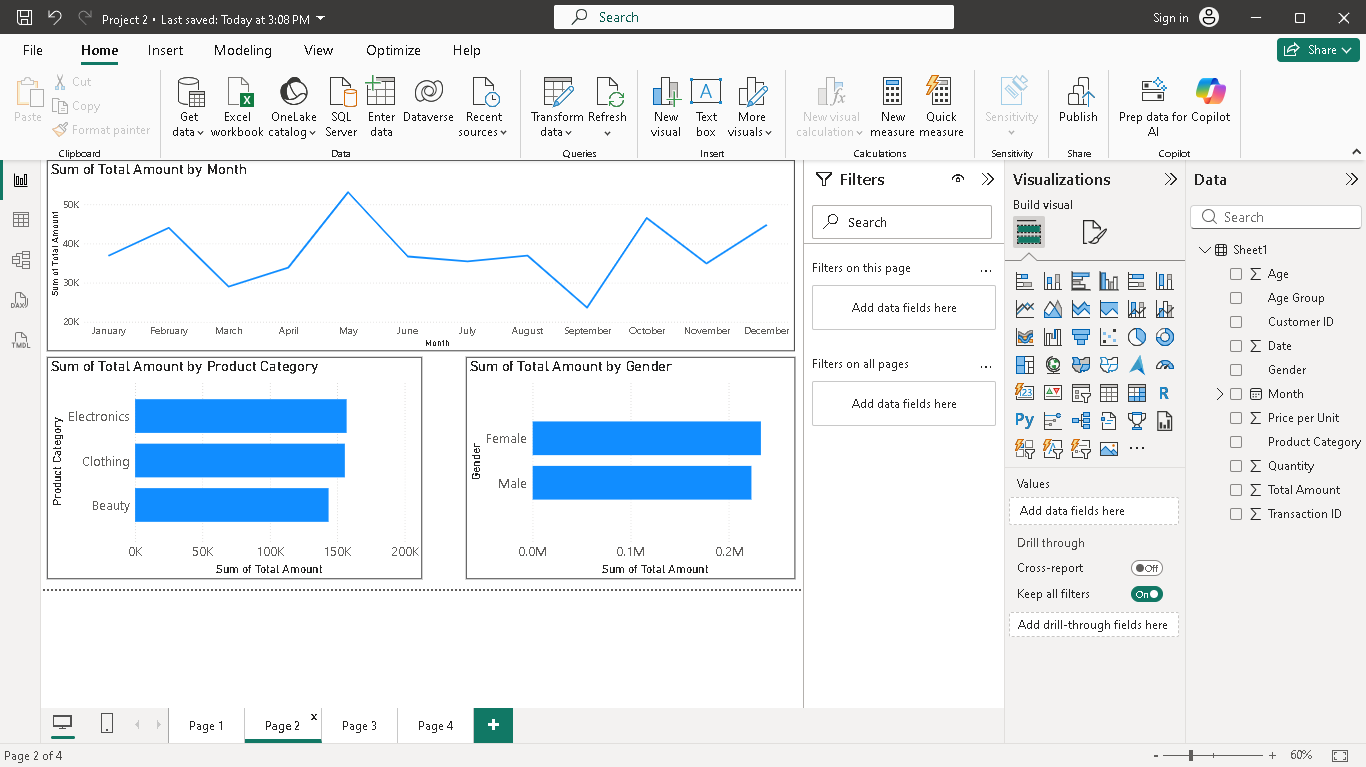

The page's visual inventory and layout, read from the dashboard file:
{"tool":"powerbi","page":{"name":"Page 2","canvas":[1280,720],"ordinal":1},"visuals":[{"type":"lineChart","fields":{"Category":["Sheet1.Month.Variation.Date Hierarchy.Month"],"Y":["Sum(Sheet1.Total Amount)"]},"box":[10.1,0,1256.5,320.8],"z":0},{"type":"barChart","fields":{"Category":["Sheet1.Product Category"],"Y":["Sum(Sheet1.Total Amount)"]},"box":[10.1,330.9,629.9,372.9],"z":1},{"type":"barChart","fields":{"Category":["Sheet1.Gender"],"Y":["Sum(Sheet1.Total Amount)"]},"box":[713.9,330.9,552.7,372.9],"z":2}]}

Visuals, with their boxes on the page's 1280x720 design canvas (x1, y1, x2, y2). These are canvas units, not pixel positions in the 1366x767 screenshot, which may show the page scaled, cropped or inside an application window:
lineChart - Sheet1.Month.Variation.Date Hierarchy.Month x Sum(Sheet1.Total Amount): bbox=[10, 0, 1267, 321]
barChart - Sheet1.Product Category x Sum(Sheet1.Total Amount): bbox=[10, 331, 640, 704]
barChart - Sheet1.Gender x Sum(Sheet1.Total Amount): bbox=[714, 331, 1267, 704]
